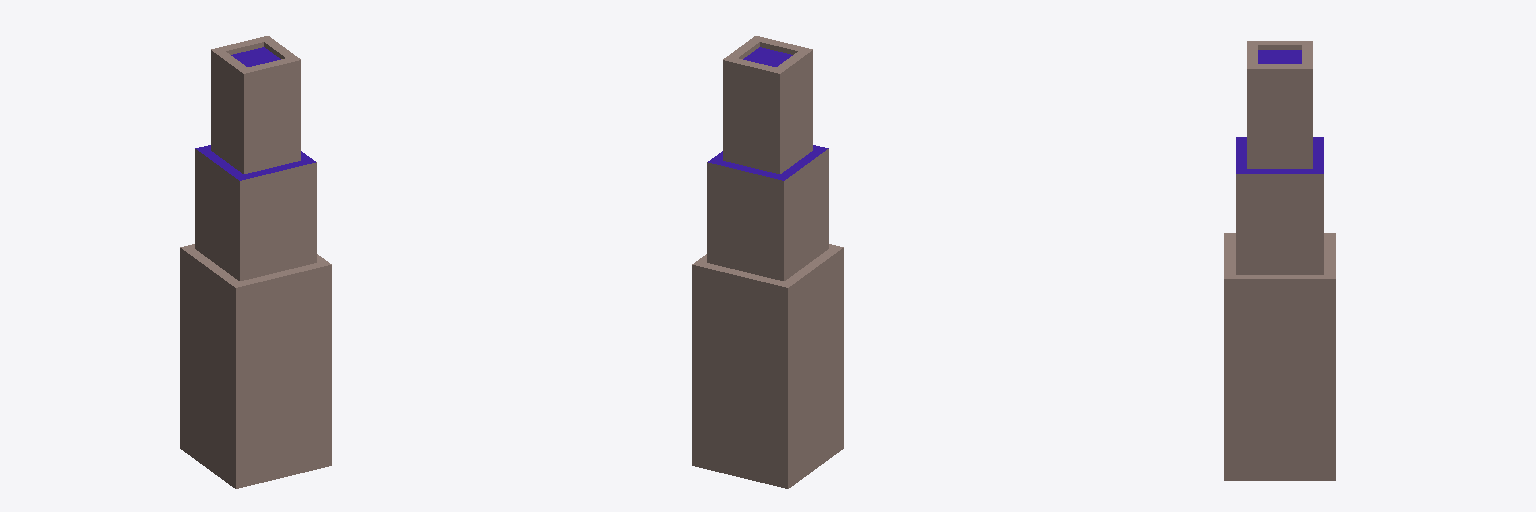
Rendered from low_buildingM_CyPk.obj.
The picture shows the model from 3 angles: view 1: azimuth 30°, elevation 25°; view 2: azimuth 150°, elevation 25°; view 3: azimuth 270°, elevation 25°; orthographic projection.
Visible parts, largest first — view 1: low_buildingM; view 2: low_buildingM; view 3: low_buildingM.
Part boxes in pixels (bbox=[...]): low_buildingM: bbox=[180, 36, 331, 488]; low_buildingM: bbox=[692, 36, 843, 488]; low_buildingM: bbox=[1224, 41, 1335, 480].
Size of the model in its own units: 0.5 by 2 by 0.5.